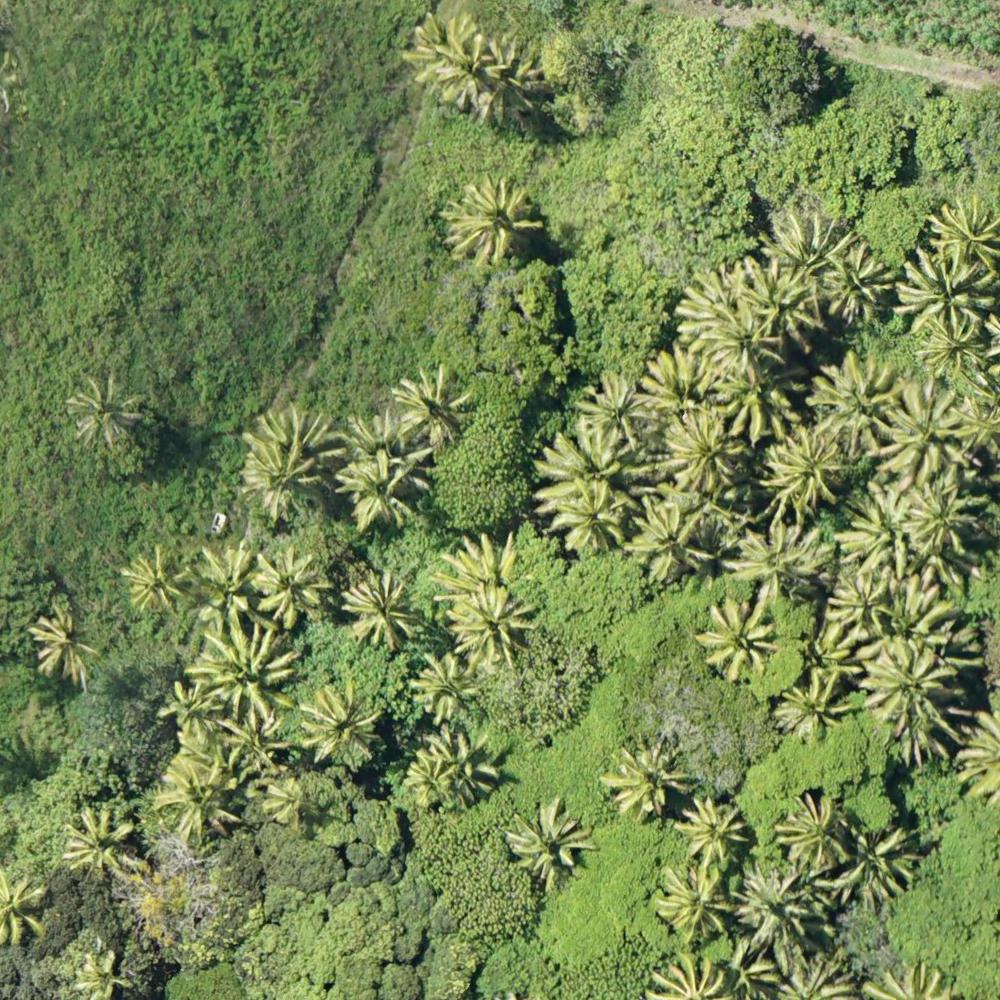Palm: (188, 629, 291, 726), (761, 207, 858, 308), (807, 354, 901, 454), (880, 384, 968, 481), (900, 246, 997, 331), (657, 409, 751, 495), (868, 641, 956, 732), (448, 175, 541, 258), (507, 795, 593, 884), (695, 594, 783, 679), (837, 818, 921, 906), (698, 299, 787, 380), (301, 683, 386, 767), (189, 545, 267, 632), (649, 862, 733, 941), (630, 499, 714, 578), (845, 483, 923, 568), (906, 477, 989, 555), (446, 589, 528, 667), (735, 523, 836, 586), (442, 528, 529, 601), (769, 429, 851, 506), (821, 245, 900, 324), (607, 739, 687, 817), (393, 368, 473, 445), (776, 667, 858, 742), (158, 760, 239, 835), (26, 610, 103, 688), (241, 434, 319, 511), (252, 549, 326, 630), (345, 452, 421, 530), (64, 372, 141, 446), (345, 572, 419, 649), (741, 871, 819, 944), (63, 805, 140, 878), (574, 372, 649, 446), (780, 791, 853, 867), (554, 478, 630, 551), (411, 647, 486, 719), (438, 31, 514, 101), (926, 199, 1000, 269), (675, 796, 749, 862), (825, 572, 895, 640), (921, 314, 992, 379), (220, 713, 288, 780), (122, 548, 187, 613), (73, 946, 133, 1000), (402, 757, 464, 809), (261, 774, 317, 827)
